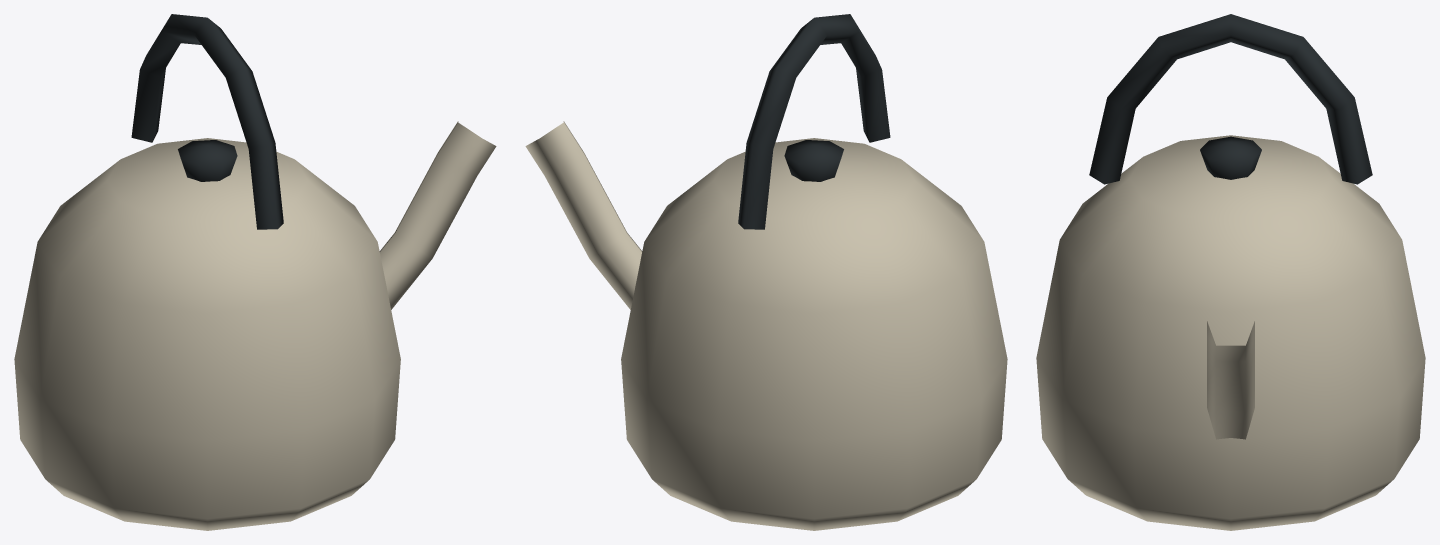
File: kettle.glb
3 views of the same model, side by side, from view 1: azimuth 30°, elevation 25°; view 2: azimuth 150°, elevation 25°; view 3: azimuth 270°, elevation 25° (orthographic).
Parts seen in each view (by area): view 1: kettle; view 2: kettle; view 3: kettle.
Boxes of the visible parts, <box> form: kettle: <box>14,14,496,530</box>; kettle: <box>525,14,1007,530</box>; kettle: <box>1036,14,1425,530</box>.
Bounding box in the file's own units: 0.2682 × 0.253 × 0.2.
